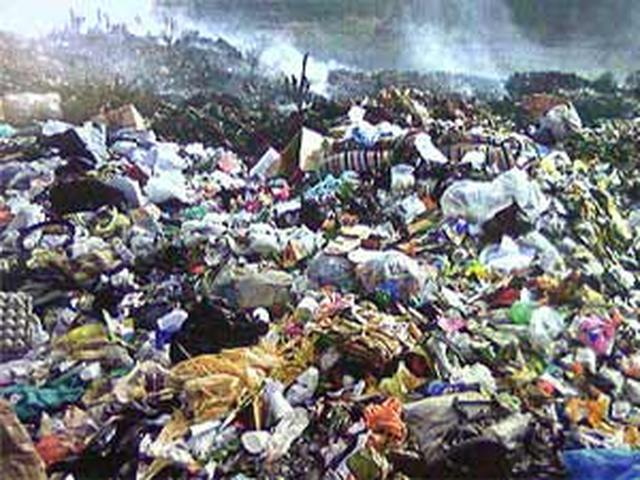garbage: (19, 119, 629, 454)
